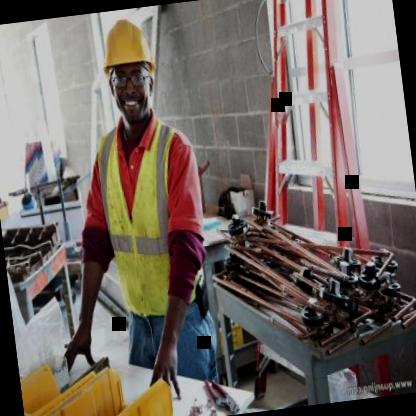helmet: (90, 6, 168, 134)
